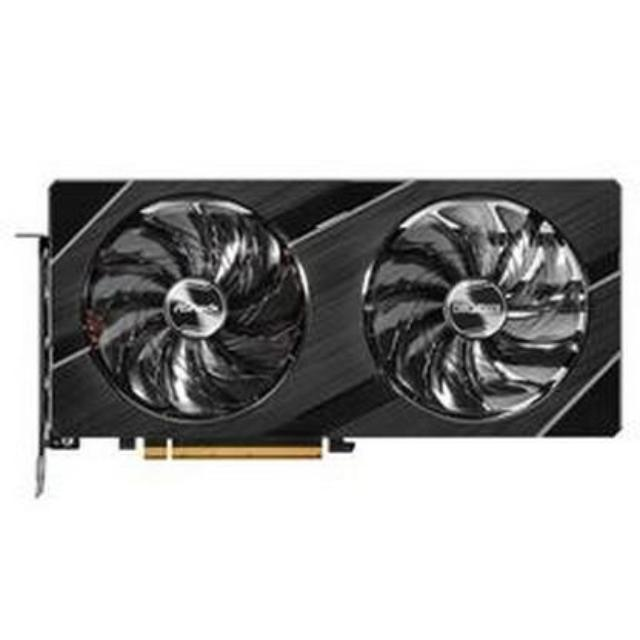GPU: (36, 170, 627, 468)
